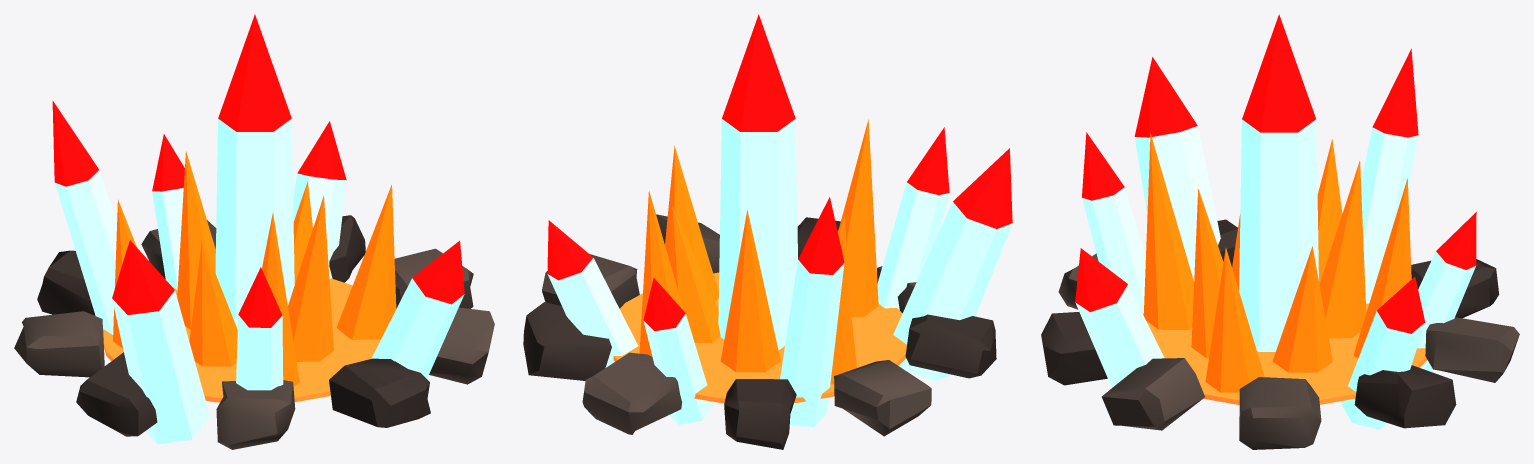
File: efekt_krysztaly_plonace.glb
The picture shows the model from 3 angles, left to right: view 1: azimuth 30°, elevation 25°; view 2: azimuth 150°, elevation 25°; view 3: azimuth 270°, elevation 25°; orthographic projection.
Parts seen in each view (by area): view 1: efekt_krysztaly_plonace; view 2: efekt_krysztaly_plonace; view 3: efekt_krysztaly_plonace.
Boxes of the visible parts, x1,y1,x2,y2 form: efekt_krysztaly_plonace: (14, 14, 494, 449); efekt_krysztaly_plonace: (523, 14, 1012, 449); efekt_krysztaly_plonace: (1041, 14, 1519, 449).
Size of the model in its own units: 0.923 by 0.7748 by 0.928.
